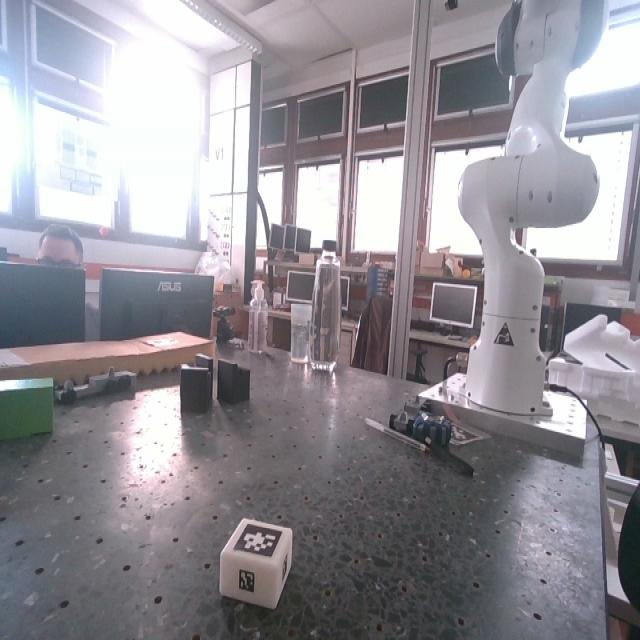Cube: (220, 516, 296, 608)
